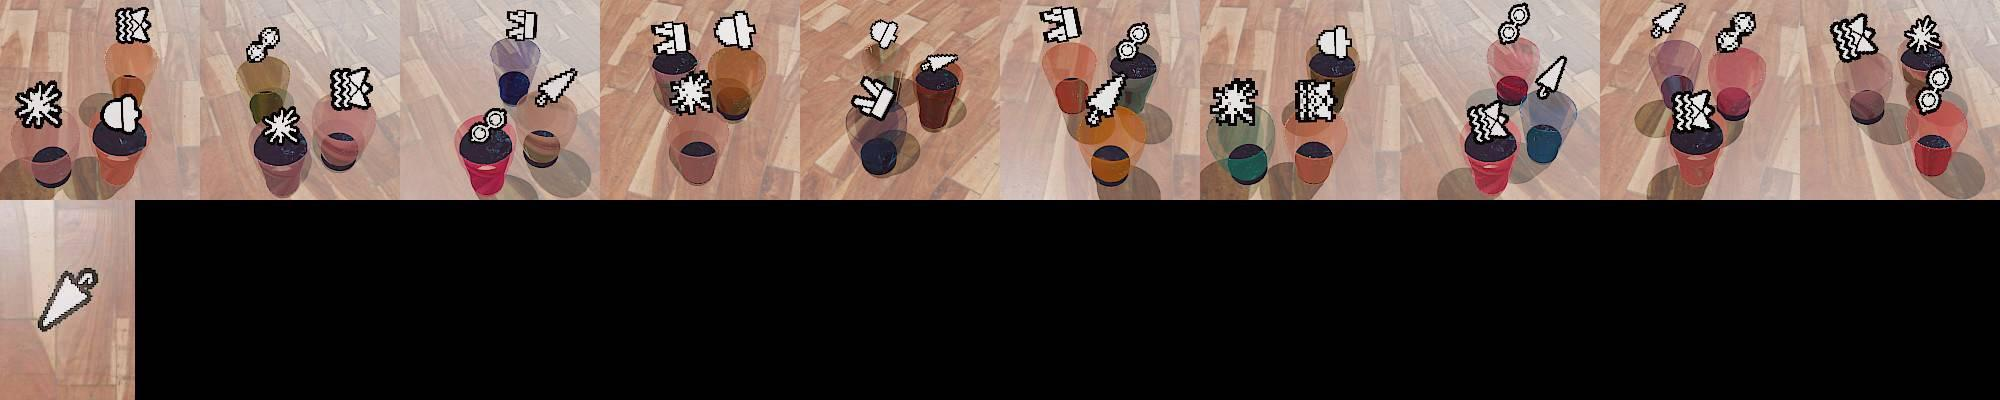icon: (34, 264, 102, 331), (14, 79, 65, 130), (1828, 13, 1879, 63), (1209, 75, 1258, 126), (667, 69, 715, 117), (1466, 96, 1514, 143), (851, 73, 897, 122), (1293, 76, 1340, 123), (1914, 63, 1954, 118), (1082, 75, 1125, 125), (328, 66, 374, 109), (1671, 87, 1715, 131), (261, 103, 305, 146), (534, 66, 578, 109), (1715, 10, 1758, 53), (100, 93, 144, 134), (713, 10, 756, 51), (1041, 5, 1082, 45), (1496, 2, 1532, 47), (651, 19, 691, 58), (114, 6, 153, 45), (1903, 16, 1941, 56), (1116, 22, 1152, 64), (1533, 54, 1566, 99), (470, 105, 509, 142), (1651, 2, 1687, 40), (1315, 24, 1351, 61), (245, 26, 280, 64), (505, 9, 538, 42), (869, 19, 901, 50), (920, 51, 959, 75)
